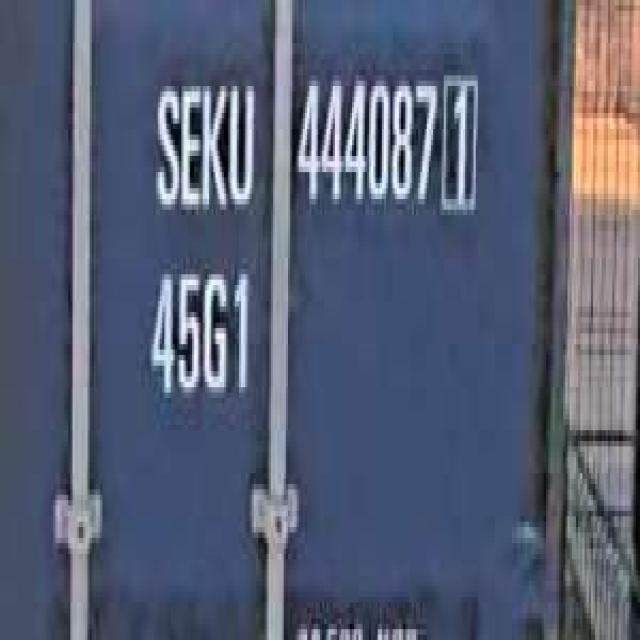dv: (437, 59, 482, 221)
owner: (147, 64, 258, 220)
serial: (292, 59, 433, 226)
size: (143, 253, 256, 414)
